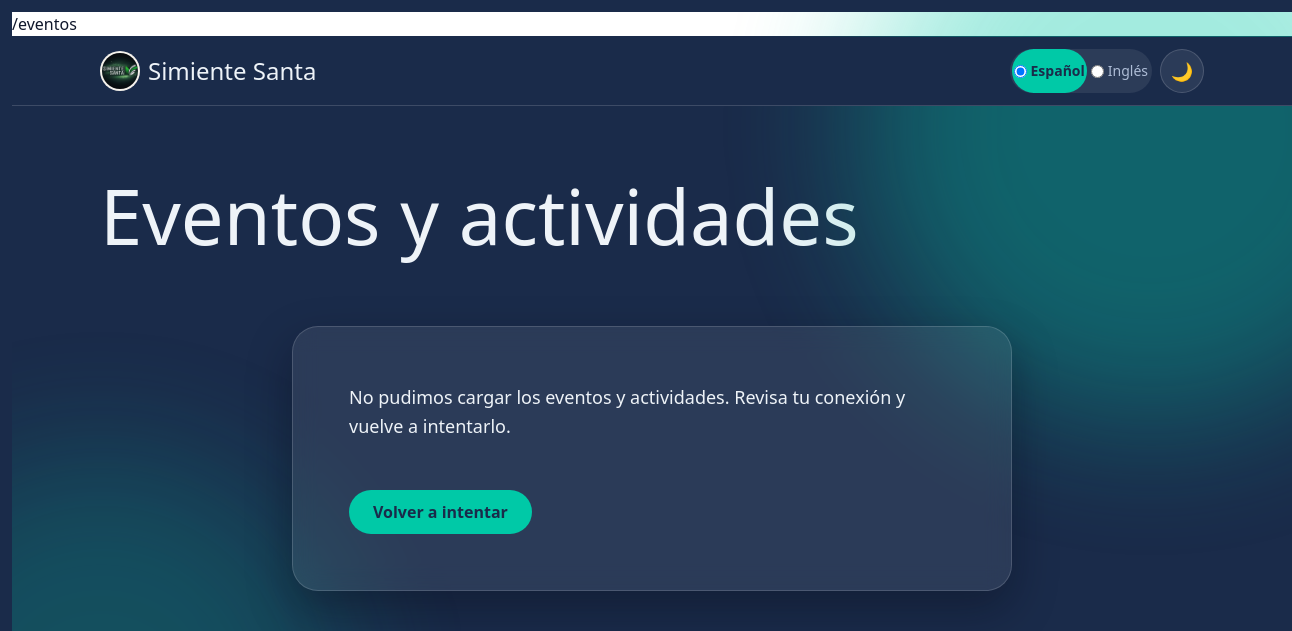
Test: EventsPage · estados de carga y error (ux.md §4.1) › sin nada en caché ofrece «Volver a intentar»
Expected: the text "No pudimos cargar los eventos y actividades" is shown, [349, 385, 905, 438]
Click the button "Volver a intentar": (440, 512) [349, 490, 532, 534]
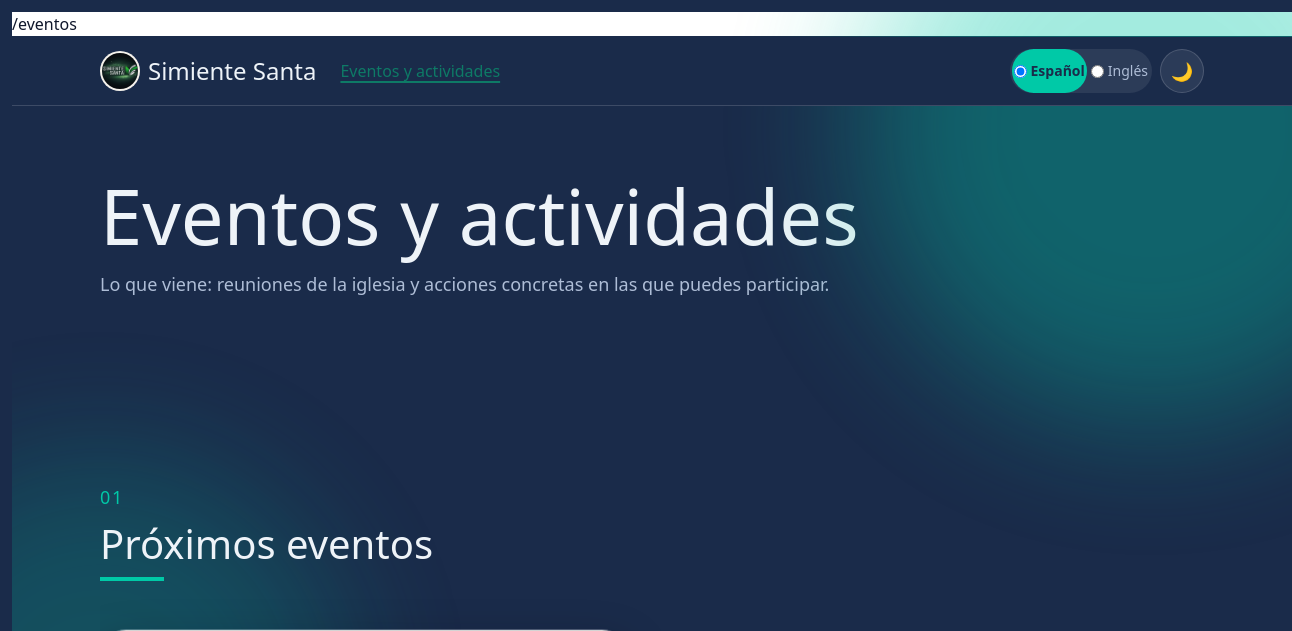
Now the heading "Próximos eventos" is shown, box [100, 516, 433, 571]
